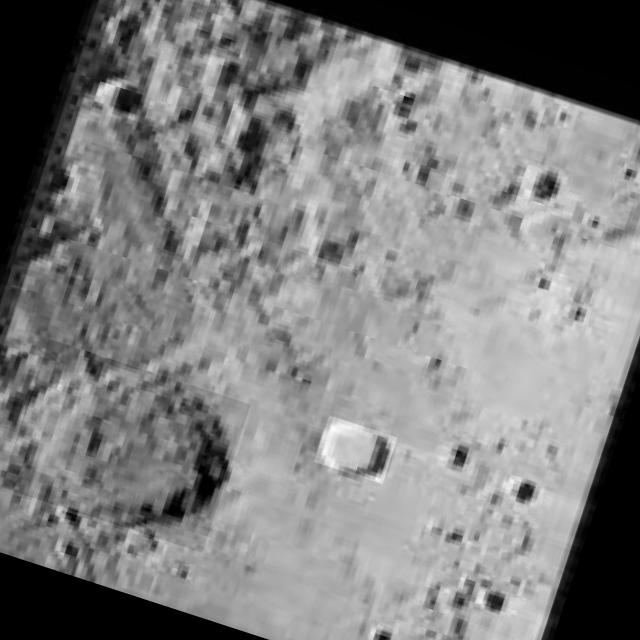crater: (1, 339, 250, 553), (314, 416, 398, 484)
